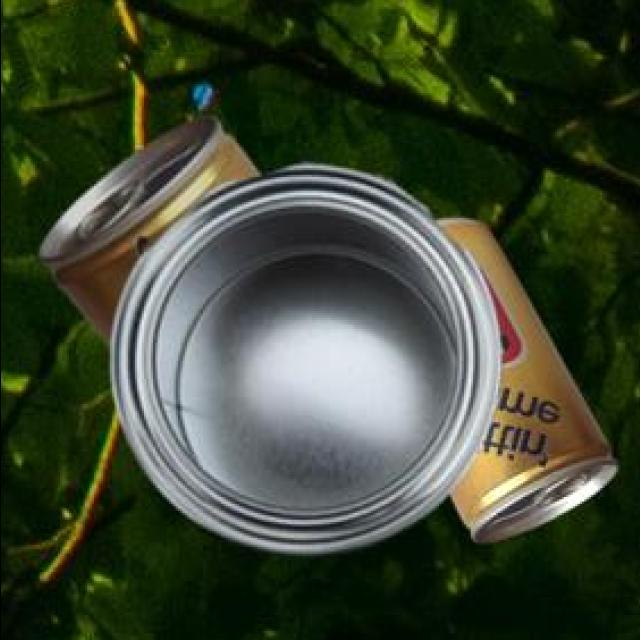logam: (108, 160, 498, 550), (431, 214, 614, 539), (35, 115, 258, 344)
